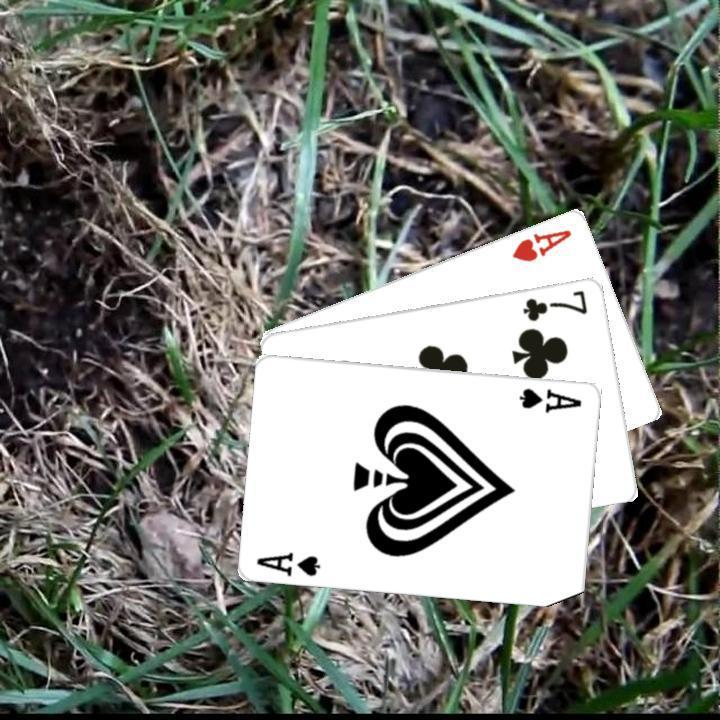7: (519, 285, 590, 323)
A: (508, 224, 574, 263), (252, 547, 323, 578), (515, 383, 584, 414)
